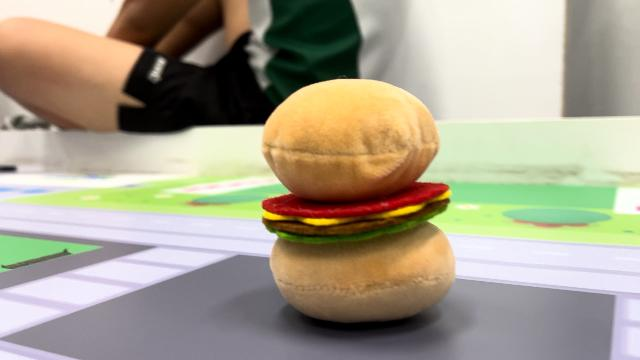burger: (253, 73, 463, 325)
